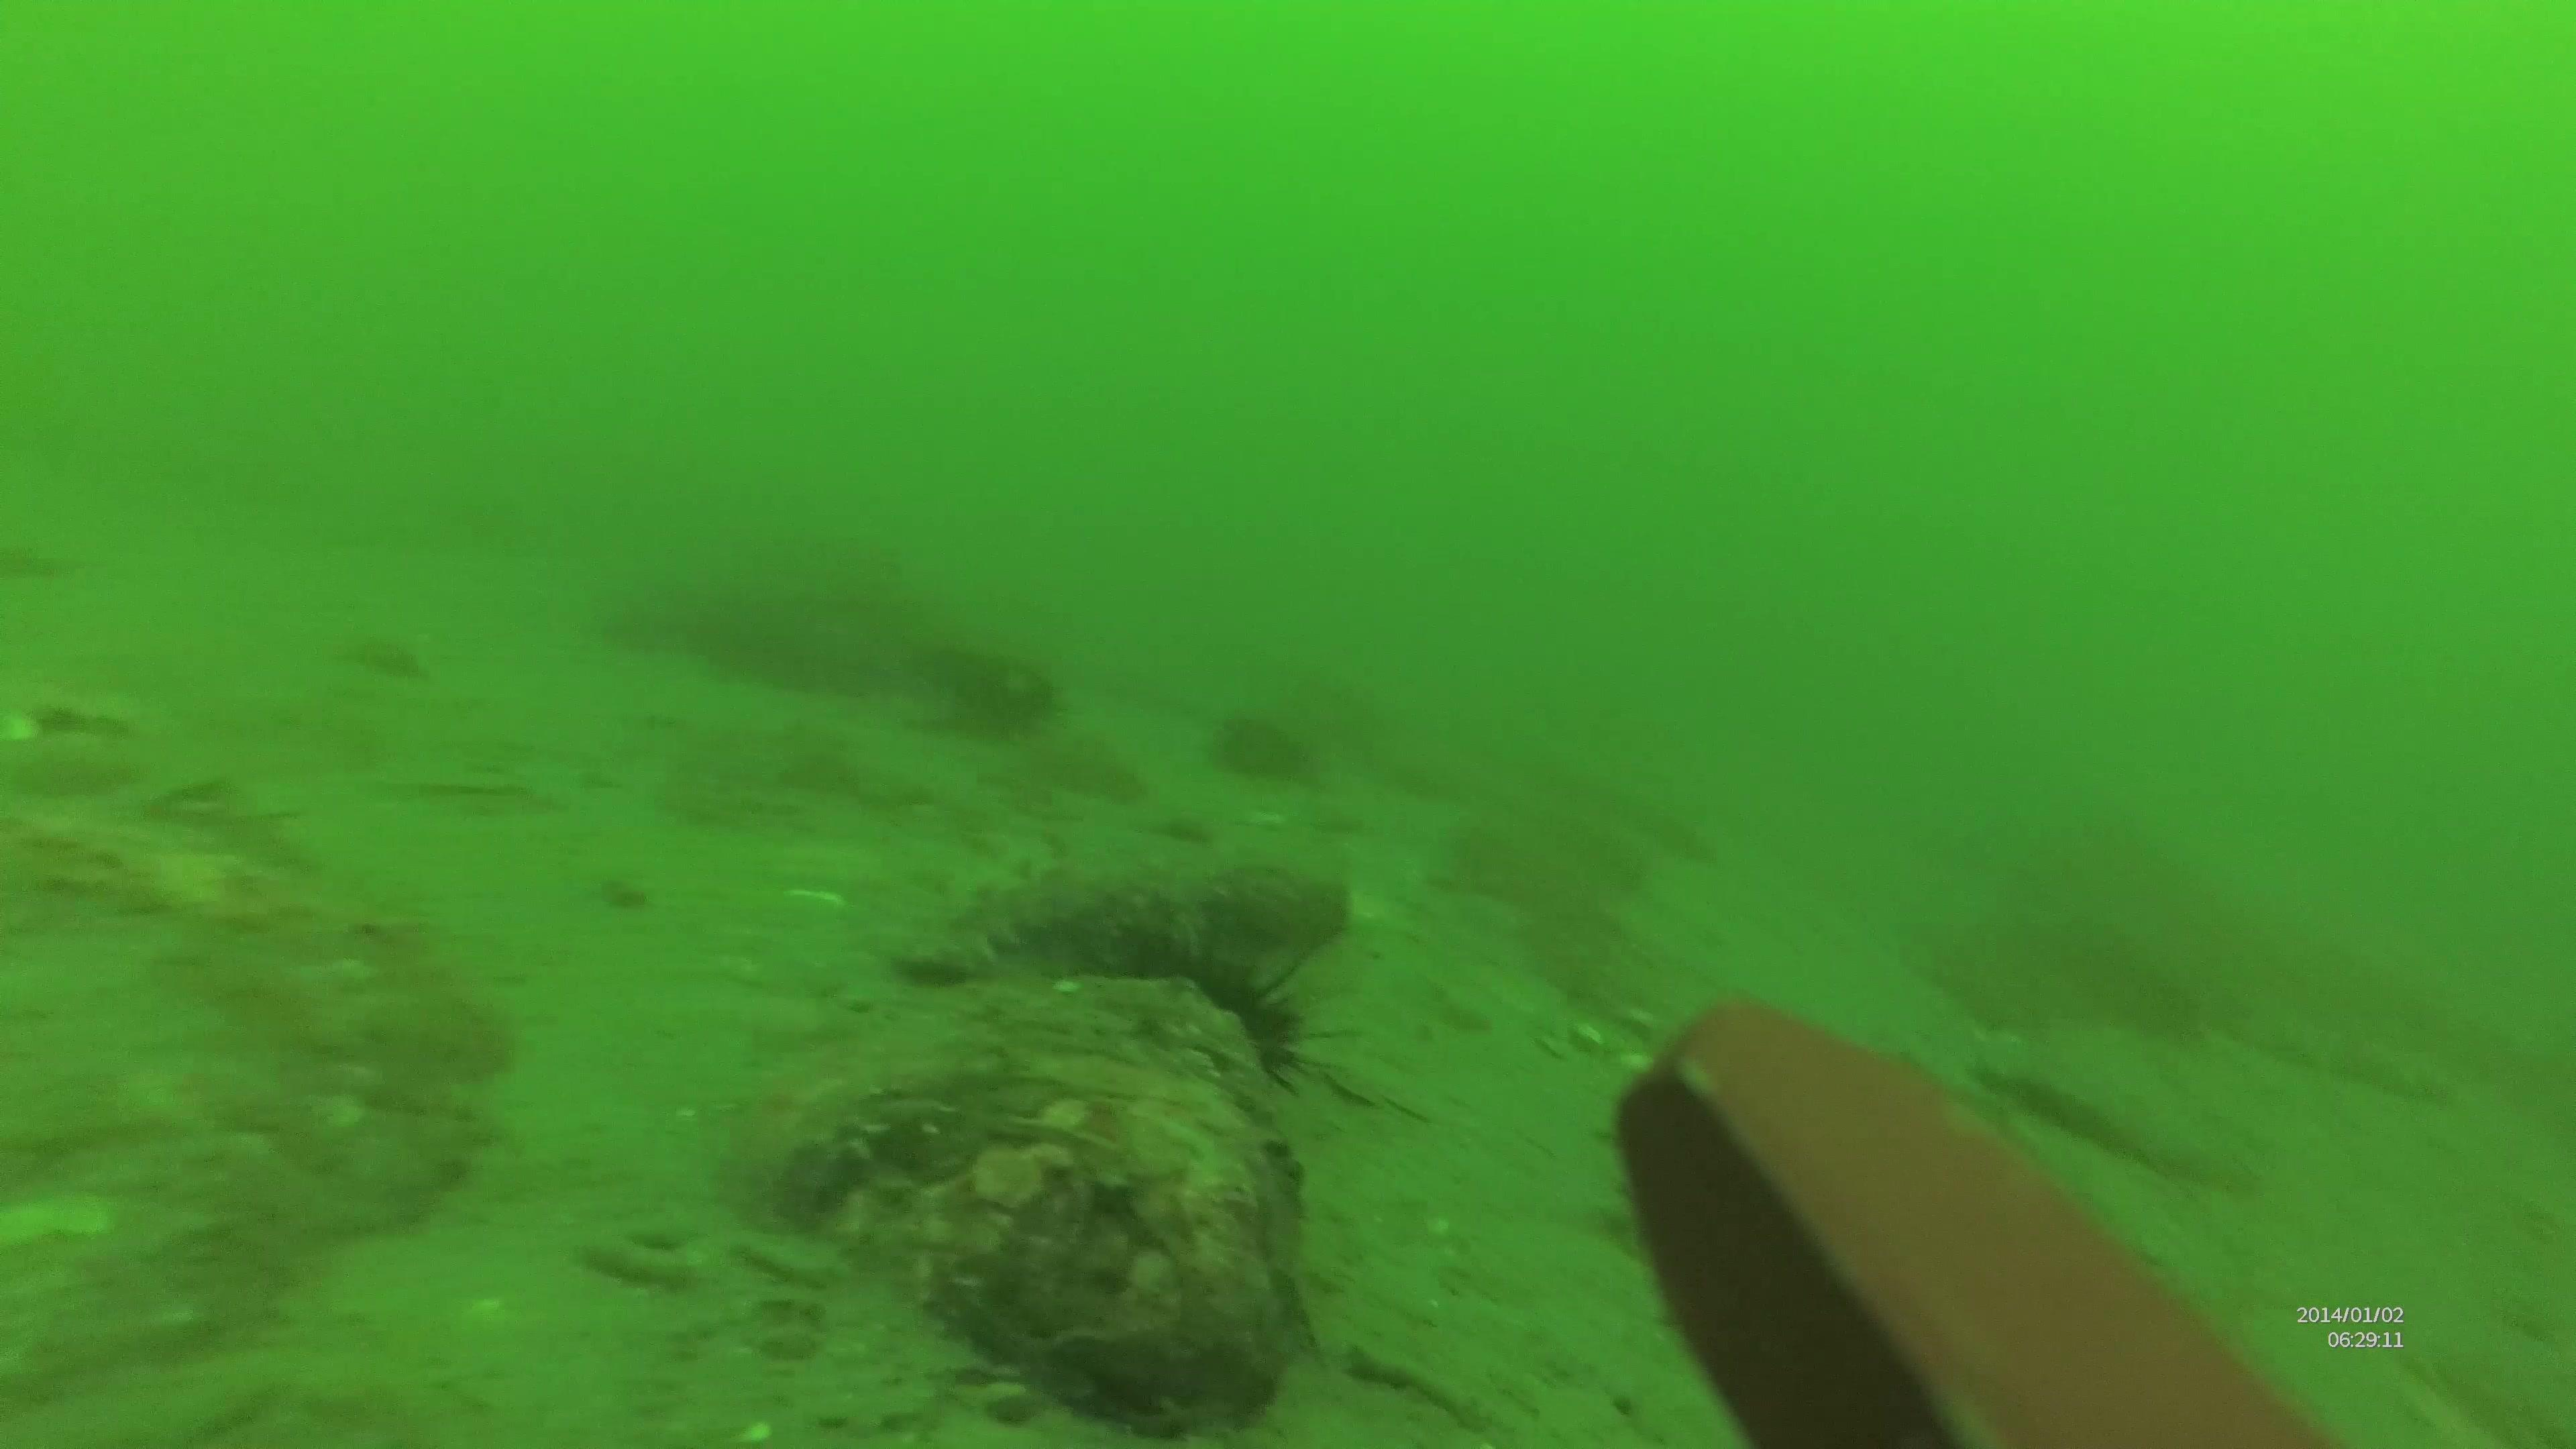echinus: (1109, 936, 1348, 1097)
holothurian: (879, 823, 1355, 984)
